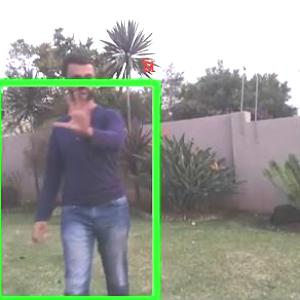follow_hand: (50, 85, 96, 138)
